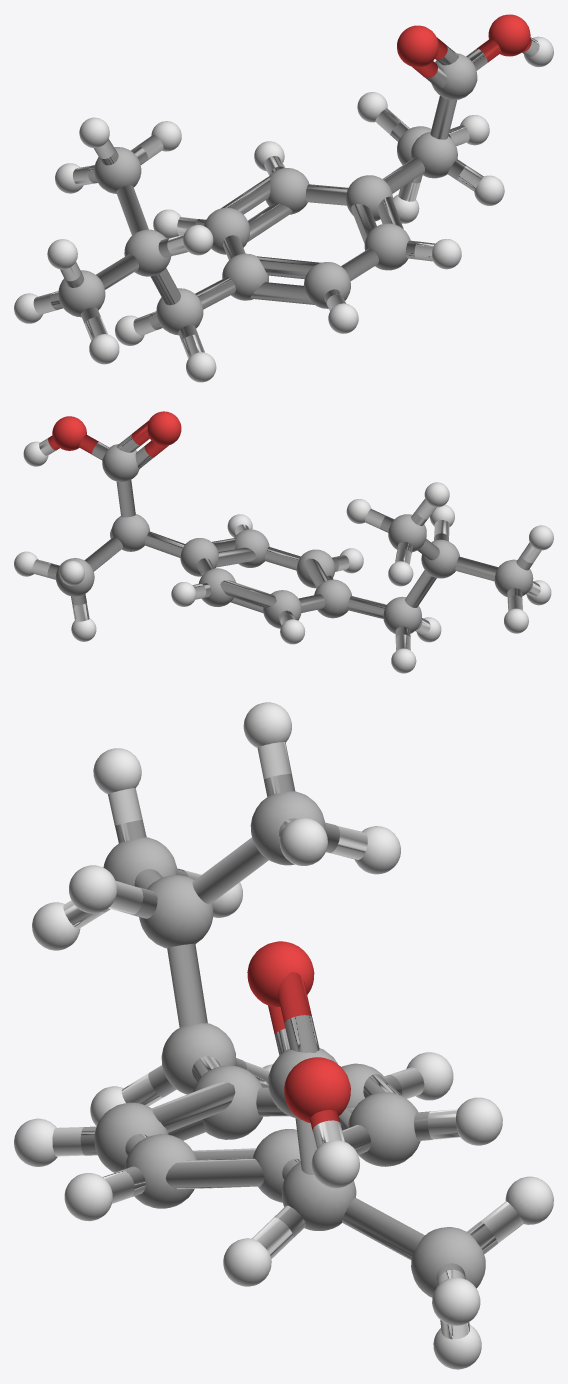
The model's file is ibuprofenDecimated.fbx.
The picture shows the model from 3 angles, top to bottom: view 1: azimuth 30°, elevation 25°; view 2: azimuth 150°, elevation 25°; view 3: azimuth 270°, elevation 25°; orthographic projection. The views are drawn at different scales.
Parts seen in each view (by area): view 1: C12_Atom, C7_Atom, C10_Atom, C9_Atom, C5_Atom, C4_Atom, C3_Atom, C8_Atom, C13_Atom, O2_Atom, C11_Atom, O1_Atom (+35 smaller); view 2: C7_Atom, C5_Atom, C15_Atom, C4_Atom, C8_Atom, C9_Atom, C6_Atom, C3_Atom, O2_Atom, O1_Atom, C11_Atom, C12_Atom (+31 smaller); view 3: C13_Atom, C3_Atom, C14_Atom, O1_Atom, C4_Atom, C12_Atom, C7_Atom, C5_Atom, C10_Atom, O2_Atom, C9_Atom, Cylinder36 (+35 smaller).
Boxes of the visible parts, x1,y1,x2,y2 form: C12_Atom: [364, 223, 410, 270]; C7_Atom: [411, 131, 457, 178]; C10_Atom: [304, 262, 350, 308]; C9_Atom: [94, 147, 141, 193]; C5_Atom: [222, 253, 268, 300]; C4_Atom: [156, 288, 203, 335]; C3_Atom: [124, 229, 171, 276]; C8_Atom: [58, 270, 105, 317]; C13_Atom: [265, 168, 309, 214]; O2_Atom: [397, 25, 438, 67]; C11_Atom: [204, 207, 250, 254]; O1_Atom: [488, 14, 530, 56]; C7_Atom: [111, 514, 149, 551]; C5_Atom: [314, 579, 351, 618]; C15_Atom: [102, 444, 139, 481]; C4_Atom: [383, 596, 421, 633]; C8_Atom: [494, 559, 533, 597]; C9_Atom: [388, 514, 426, 552]; C6_Atom: [180, 538, 218, 576]; C3_Atom: [421, 539, 459, 578]; O2_Atom: [147, 411, 181, 445]; O1_Atom: [52, 416, 86, 450]; C11_Atom: [263, 590, 301, 628]; C12_Atom: [234, 529, 269, 567]; C13_Atom: [348, 1092, 420, 1166]; C3_Atom: [139, 875, 213, 948]; C14_Atom: [411, 1227, 485, 1297]; O1_Atom: [284, 1057, 350, 1122]; C4_Atom: [161, 1023, 236, 1094]; C12_Atom: [124, 1134, 196, 1208]; C7_Atom: [281, 1161, 356, 1230]; C5_Atom: [193, 1065, 262, 1139]; C10_Atom: [94, 1102, 168, 1172]; O2_Atom: [247, 941, 314, 1006]; C9_Atom: [250, 791, 325, 865]; Cylinder36: [165, 1158, 264, 1189].
Bounding box in the file's own units: 1099 × 458 × 565.
